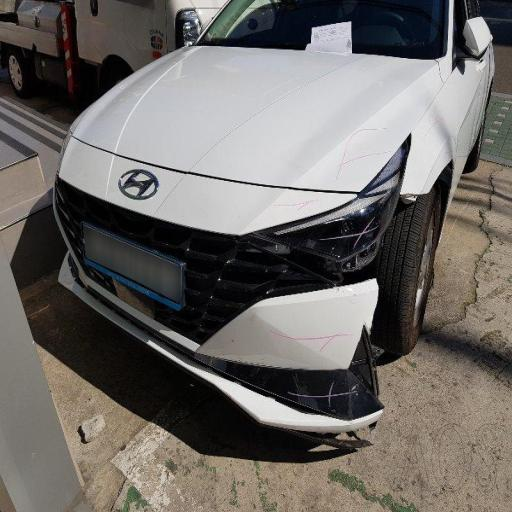broken: (282, 184, 438, 442)
scratch: (333, 92, 412, 176)
